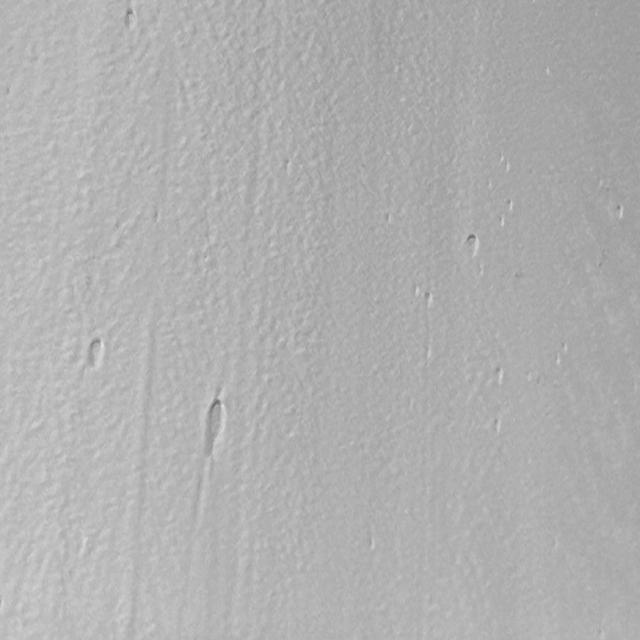pin holes: (200, 398, 230, 458), (84, 336, 108, 371), (459, 233, 480, 259), (120, 6, 139, 30), (489, 367, 506, 390), (494, 365, 507, 385), (613, 202, 626, 221), (492, 416, 505, 434), (500, 154, 511, 171), (423, 292, 434, 308), (497, 216, 508, 231), (506, 198, 516, 213)
